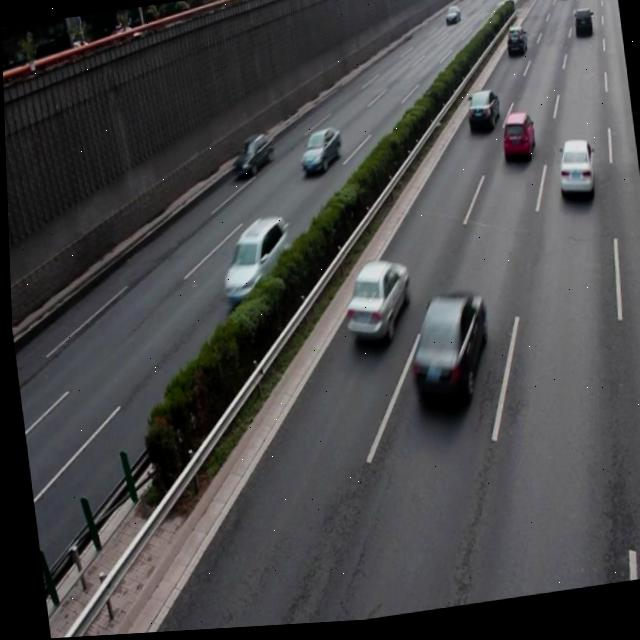car: (398, 290, 492, 416), (212, 214, 291, 305), (335, 258, 412, 351), (552, 142, 594, 210), (495, 114, 536, 172), (294, 128, 342, 177), (227, 132, 275, 181), (462, 93, 498, 138)
